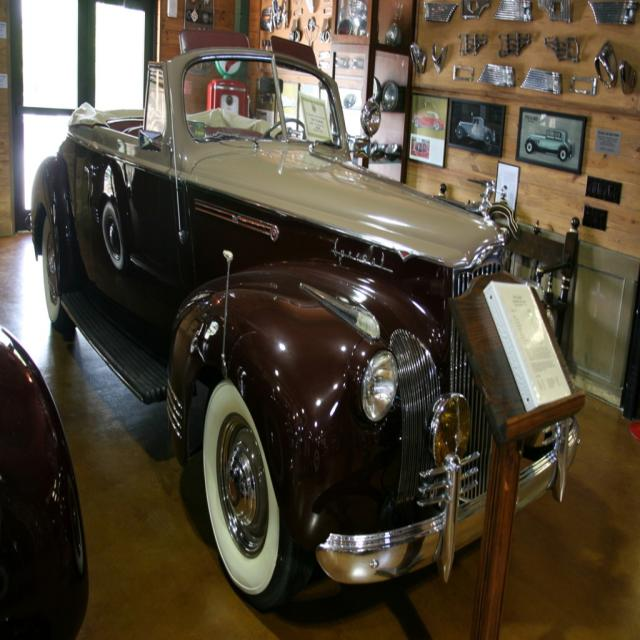car: (91, 83, 567, 613)
